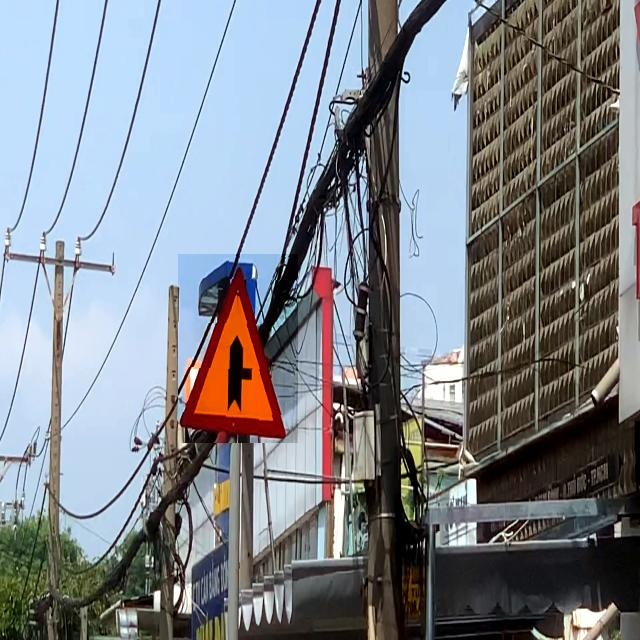bien_nguy_hiem: (178, 254, 298, 443)
